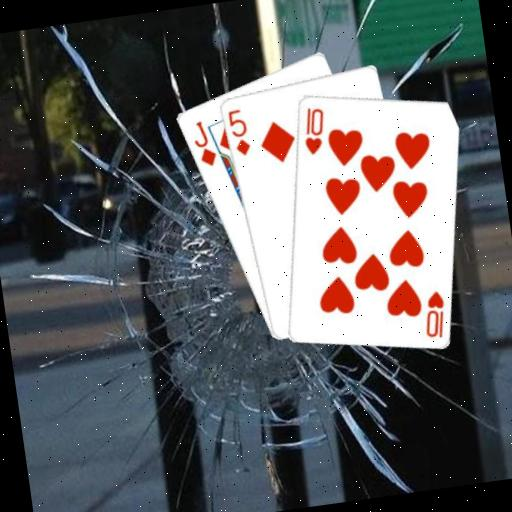10H: (296, 103, 330, 158), (417, 287, 451, 341)
5D: (223, 105, 253, 159)
JD: (187, 116, 219, 170)
